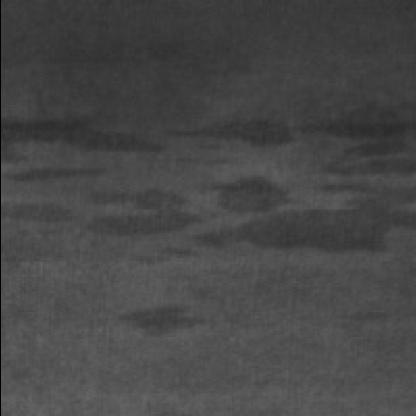inclusion: (150, 112, 410, 260), (0, 106, 164, 181), (0, 185, 198, 239), (112, 297, 218, 335)
